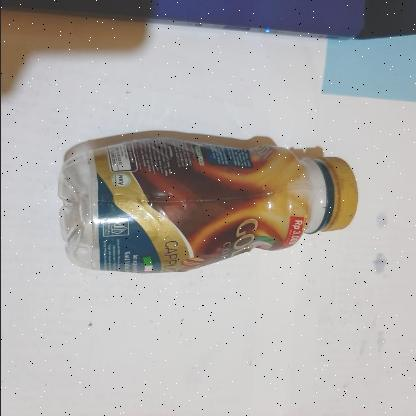Plastic Bottle: (58, 136, 356, 274)
